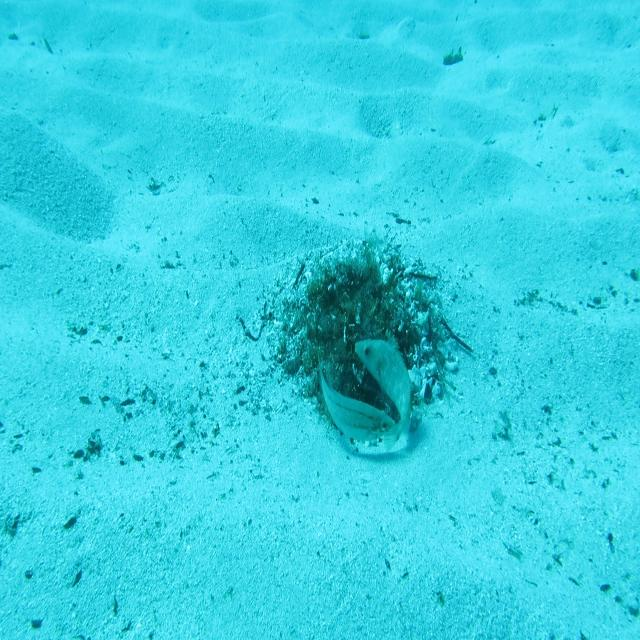DAN_CIRC: (354, 327, 416, 455)
core_nest: (336, 274, 382, 324)
female: (316, 347, 398, 448)
nest: (256, 229, 466, 465)
vegetation: (440, 50, 466, 66)
